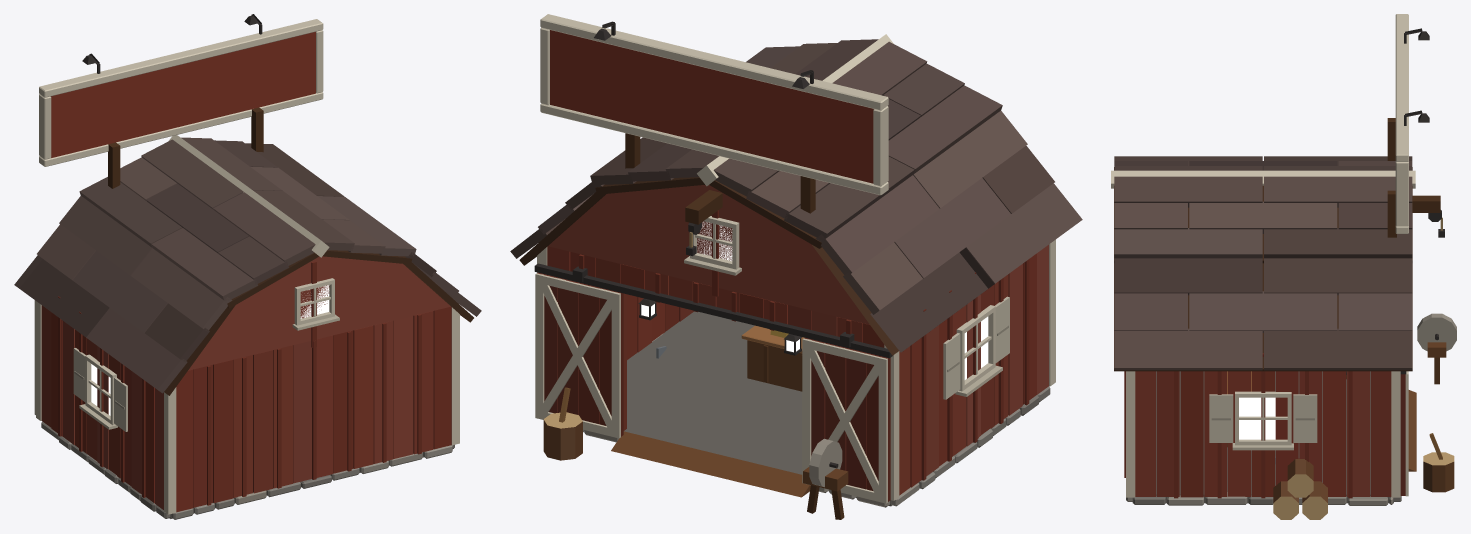
The model's file is ToolShed.glb.
The picture shows the model from 3 angles, left to right: view 1: azimuth 30°, elevation 25°; view 2: azimuth 150°, elevation 25°; view 3: azimuth 270°, elevation 25°; orthographic projection. The views are drawn at different scales.
Parts seen in each view (by area): view 1: Body, Roof, Sign, Glow; view 2: Body, Roof, Sign, BarnDoorR, BarnDoorL, Counter, Glow; view 3: Roof, Body, Glow, BarnDoorR.
Part boxes in pixels (<box>): Body: <box>36,14,459,519</box>; Roof: <box>14,137,481,395</box>; Sign: <box>51,32,315,157</box>; Glow: <box>91,285,329,415</box>; Body: <box>534,14,1055,519</box>; Roof: <box>510,39,1082,355</box>; Sign: <box>550,30,873,183</box>; BarnDoorR: <box>535,266,623,438</box>; BarnDoorL: <box>802,332,890,503</box>; Counter: <box>741,325,804,391</box>; Glow: <box>641,221,988,379</box>; Roof: <box>1114,156,1412,371</box>; Body: <box>1111,14,1456,519</box>; Glow: <box>1239,40,1426,439</box>; BarnDoorR: <box>1400,371,1408,496</box>.
Size of what is drawn, in the model's own units: 32.48 by 32.11 by 27.77.
